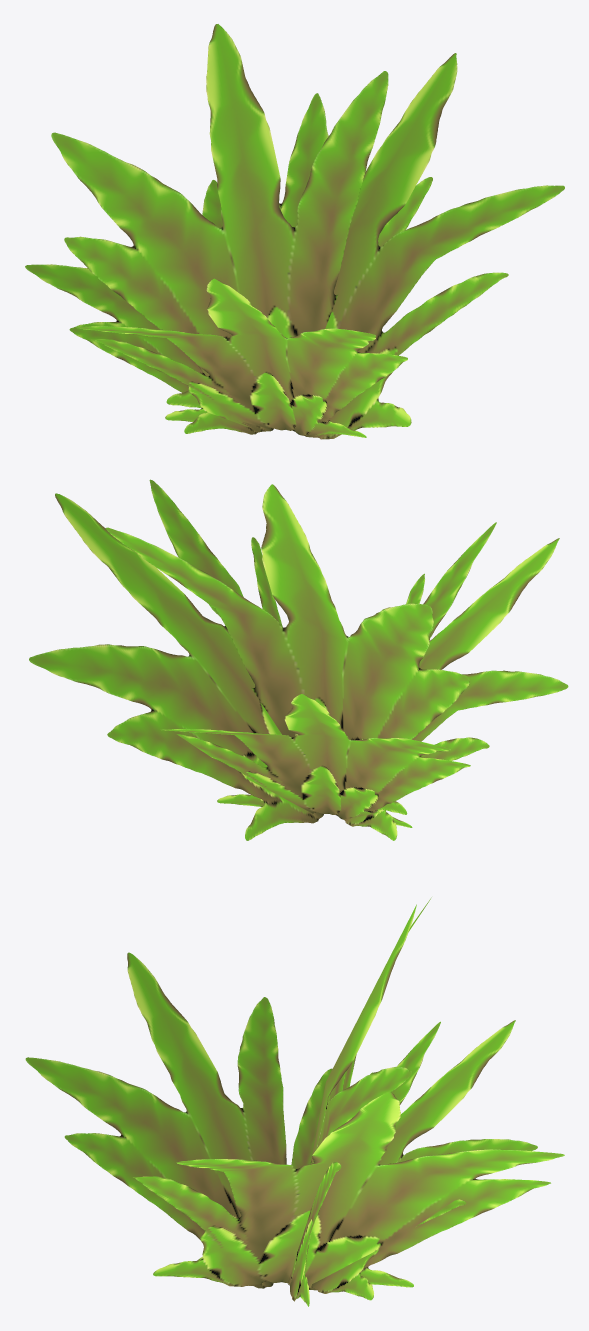
File: SM_F_Grass_04.fbx
3 renders of one model, top to bottom at view 1: azimuth 30°, elevation 25°; view 2: azimuth 150°, elevation 25°; view 3: azimuth 270°, elevation 25°, orthographic. The views are drawn at different scales.
Parts seen in each view (by area): view 1: SM_F_Grass_04; view 2: SM_F_Grass_04; view 3: SM_F_Grass_04.
Part boxes in pixels (x1,y1,x2,y2): SM_F_Grass_04: (25,24,564,439); SM_F_Grass_04: (29,479,568,840); SM_F_Grass_04: (25,897,564,1306).
Bounding box in the file's own units: 45.33 × 35.41 × 45.39.
